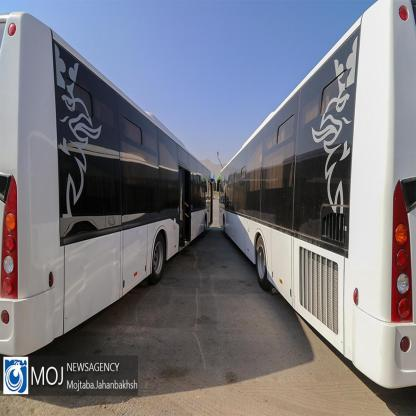Bus: (218, 0, 416, 404), (0, 0, 216, 370)
